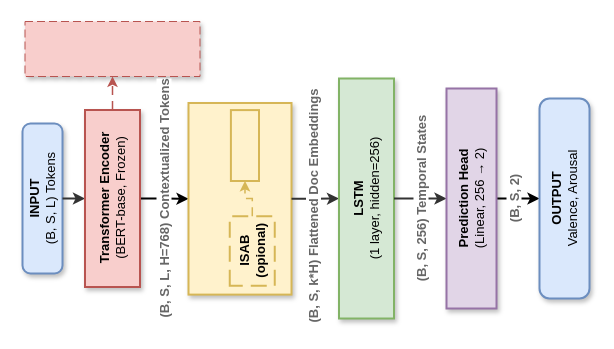
The diagram is 614 pixels wide and 349 high, and some of its shapes have lost their labels. Here are the shapes that lost their labels. From the top down, the centre of each, then its label:
(x=113, y=50): PEFT BitFit / DoRA, (r=16, alpha=32)
(x=244, y=145): PMA
(x=240, y=200): Set Attention Aggregation
